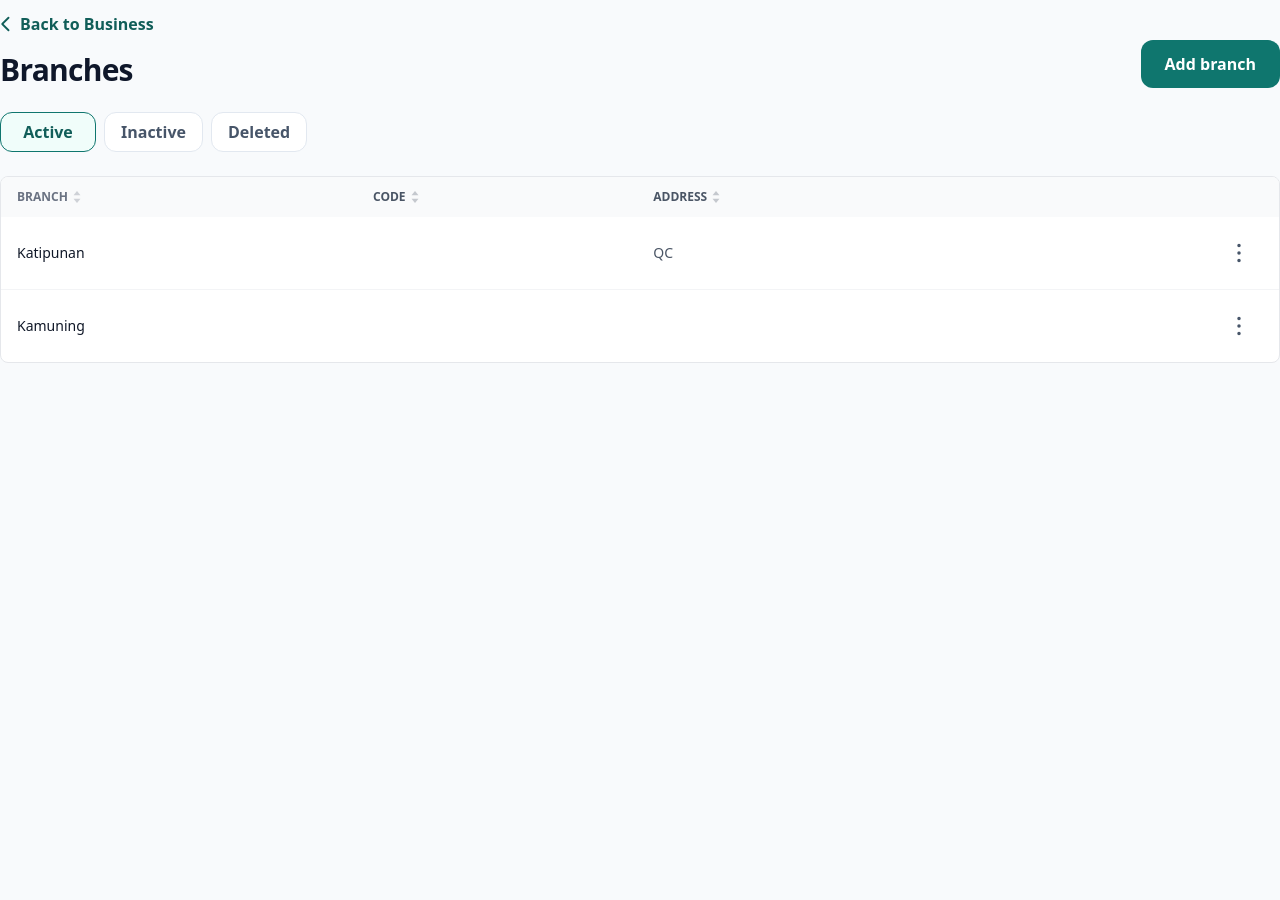
Test case: managing one branch › closes the dialog from Done
The width and height of the screenshot is (1280, 900).
Click the button named "Actions for Katipunan".
click(1239, 253)  # box [1215, 229, 1263, 277]
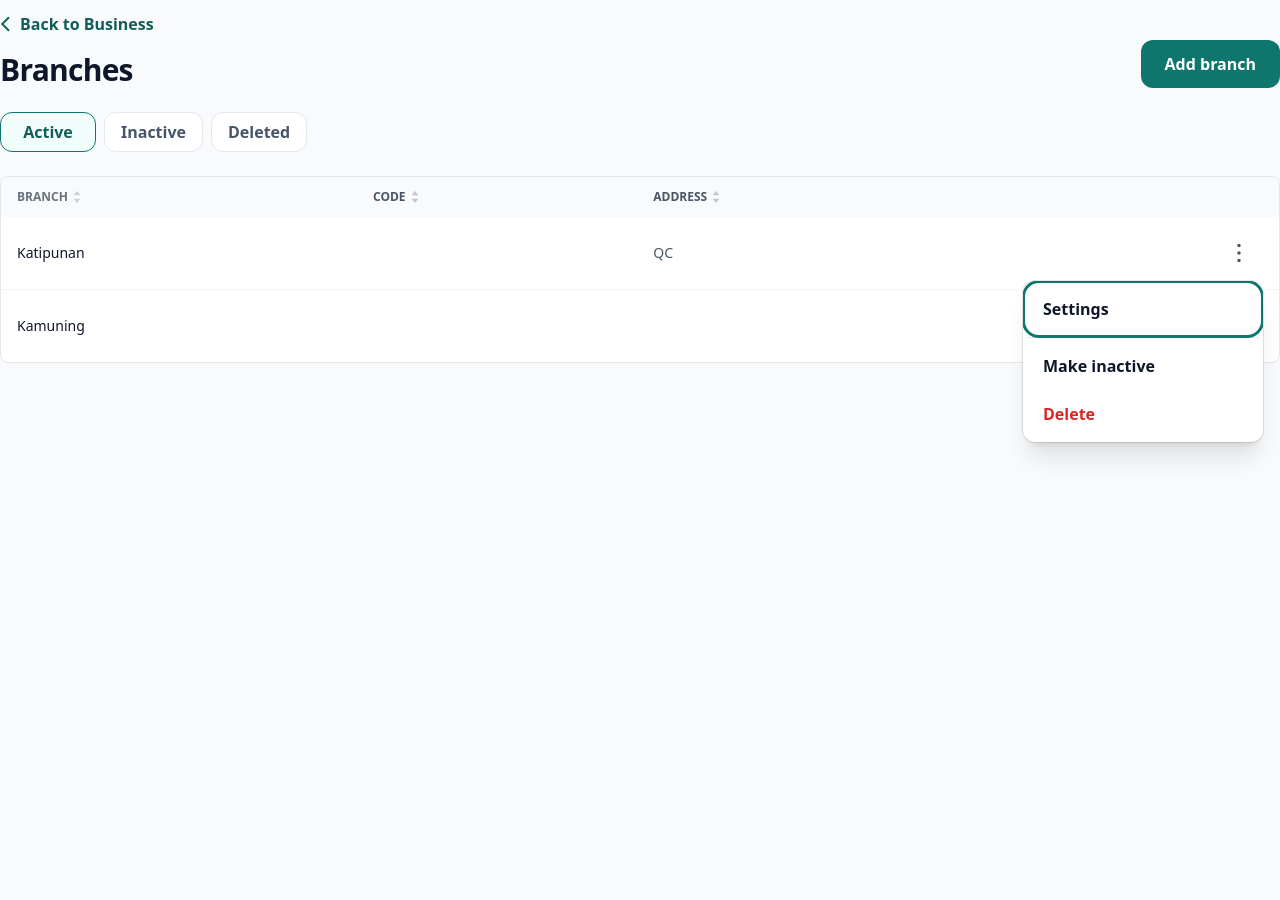
Click the menu item "Settings".
click(1143, 309)  # box [1027, 285, 1259, 333]
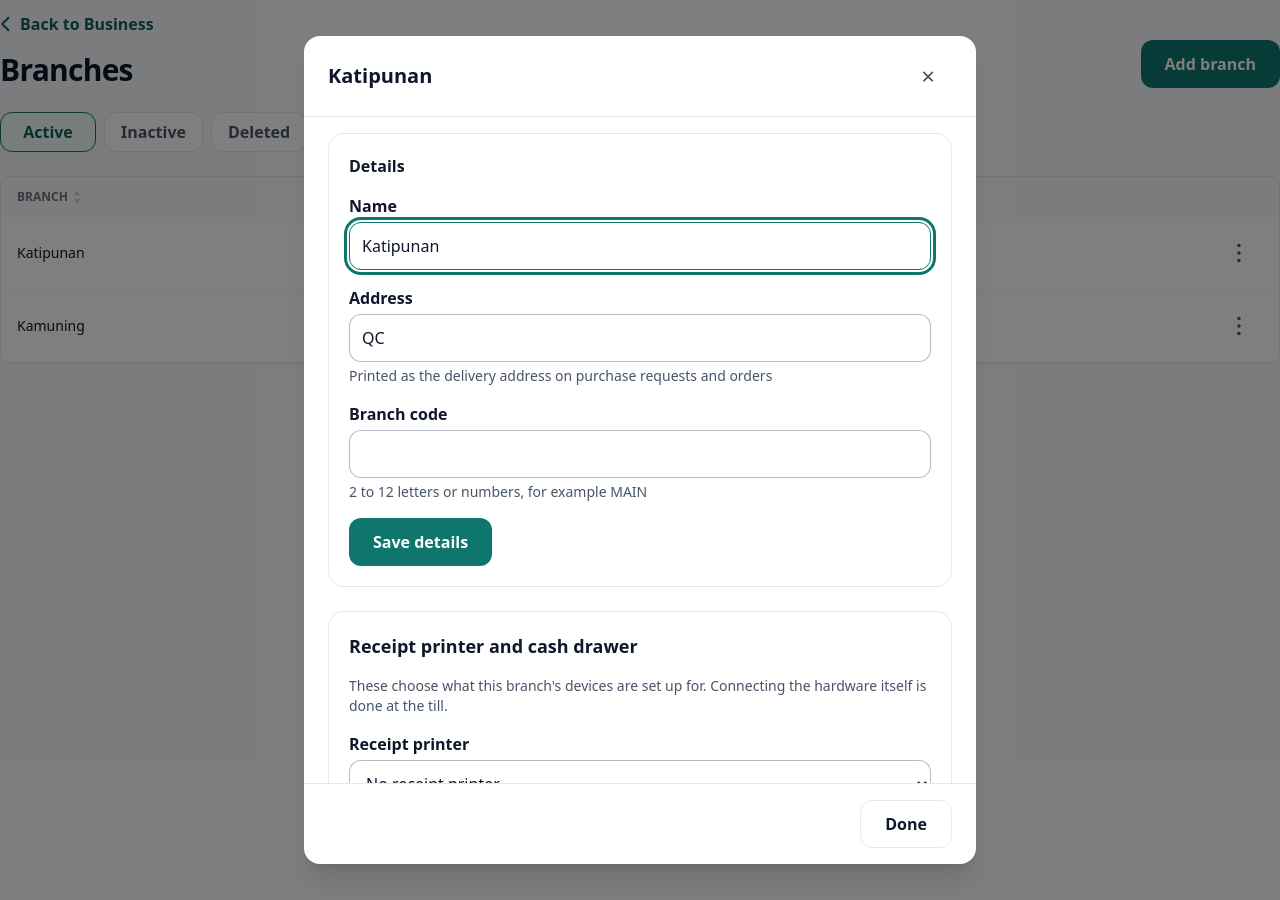
Click the button "Done".
click(906, 824)  # box [860, 800, 952, 848]
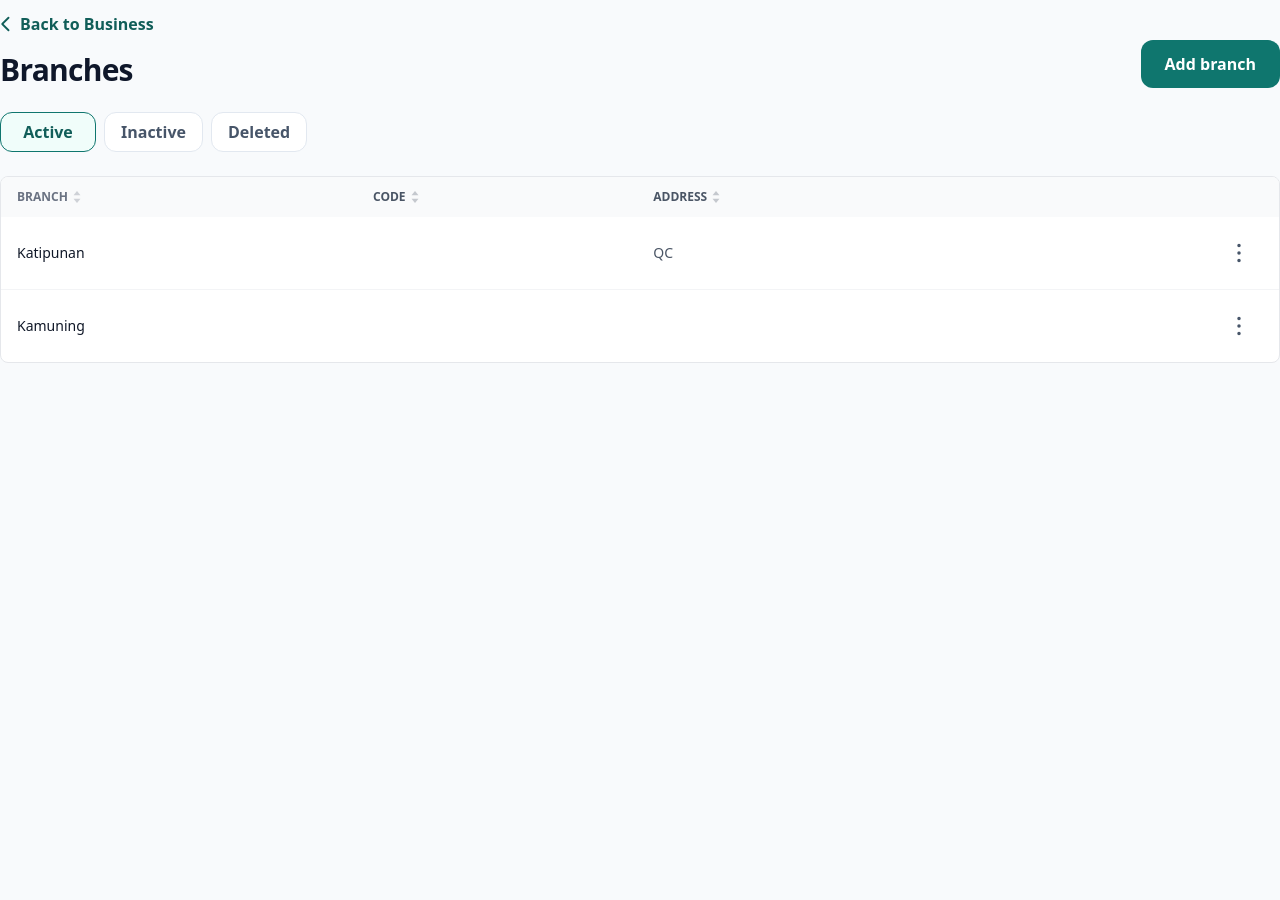
Expected: the dialog is gone
